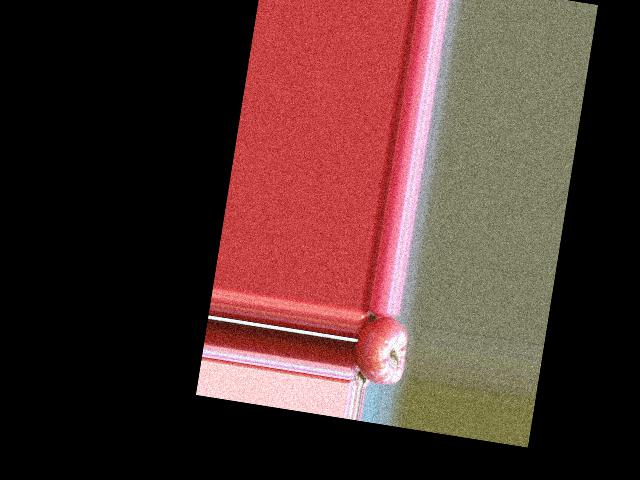tomato: (350, 311, 411, 387)
